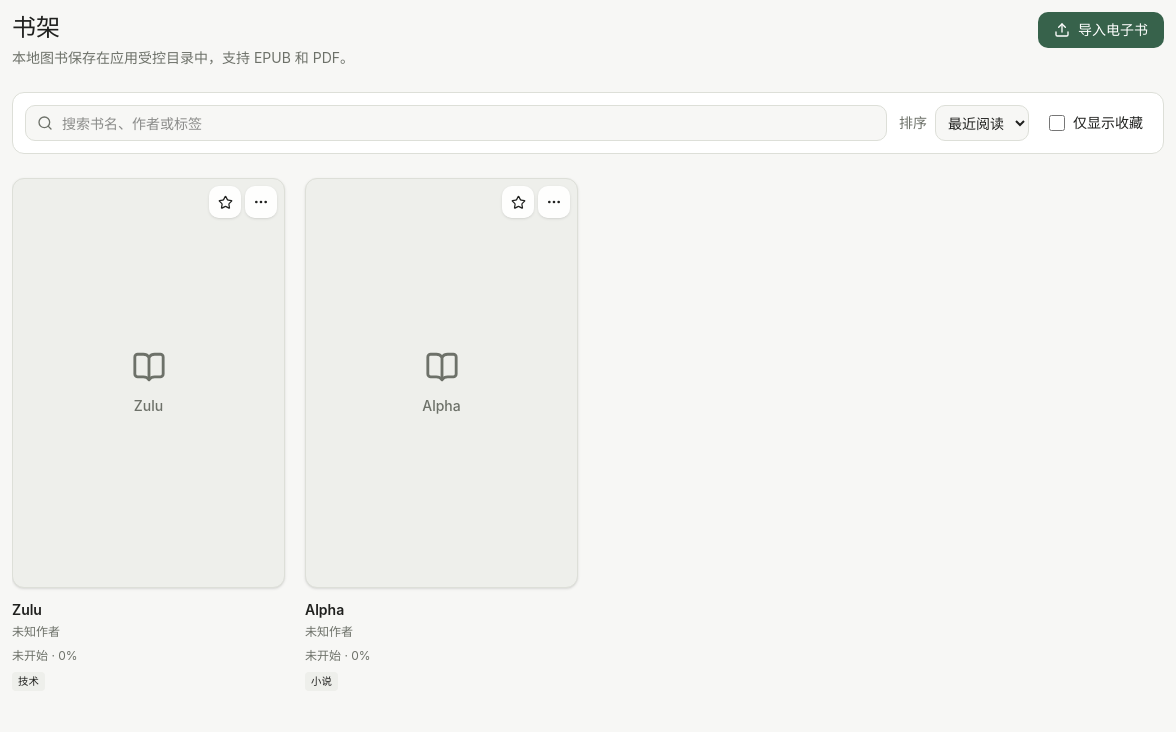
Scenario: LibraryPage › searches tags, sorts titles, and filters favorites
Expected: the button with aria-label "打开《Zulu》" is shown, [12,178,285,691]
Step 1. Select "标题" in the dropdown named "书架排序" → (982, 123), box [935,105,1029,141]
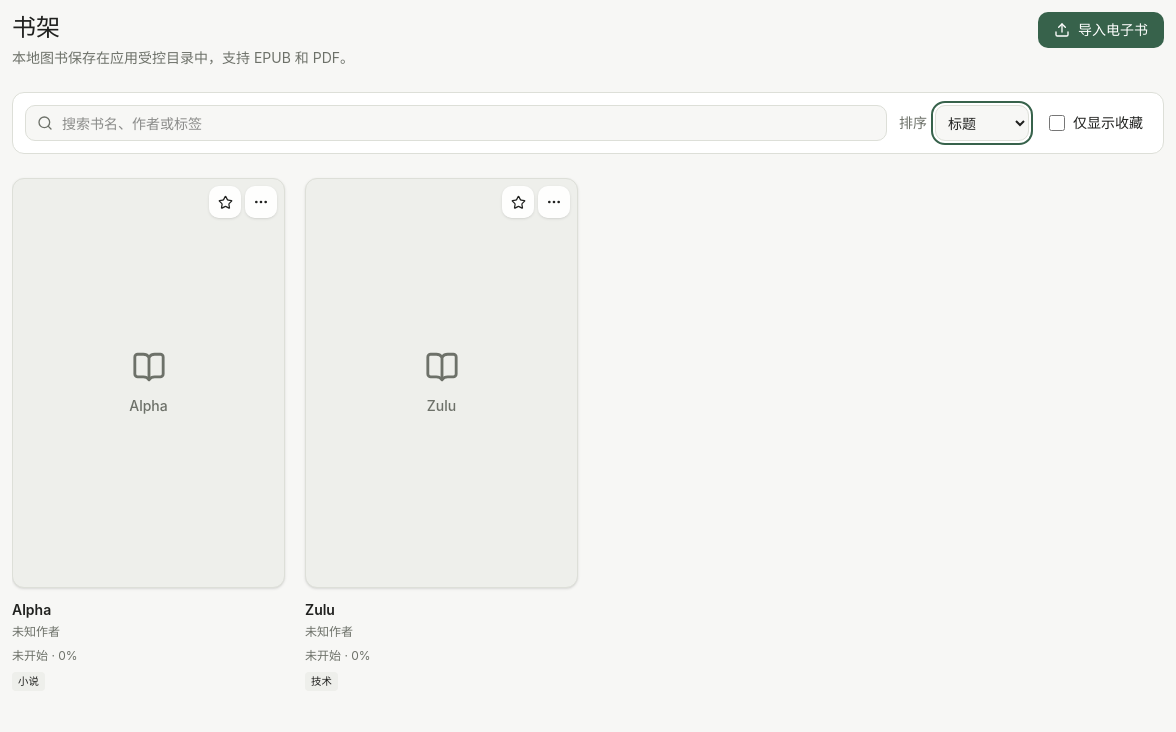
Step 2. Click the button named "收藏《Zulu》" → (518, 202), box [502,186,534,218]
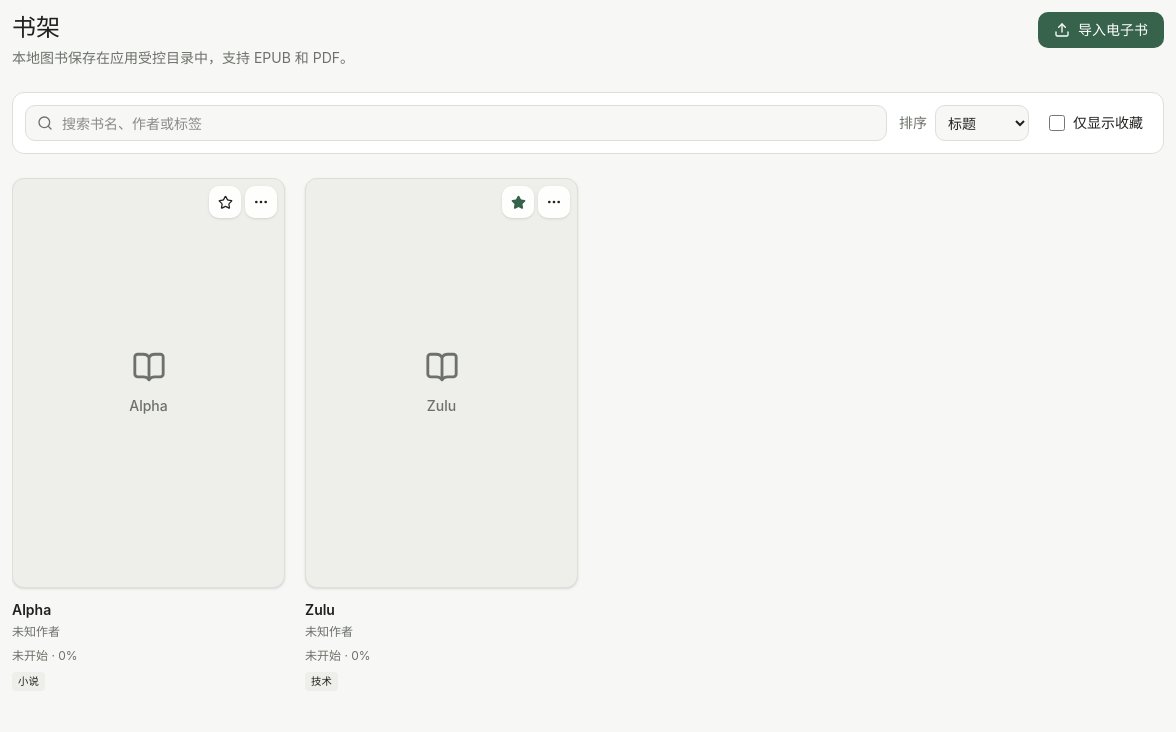
Expected: the button named "取消收藏《Zulu》" is pressed, [502,186,534,218]
Step 3. Click the checkbox labelled "仅显示收藏" → (1057, 123), box [1049,115,1065,131]
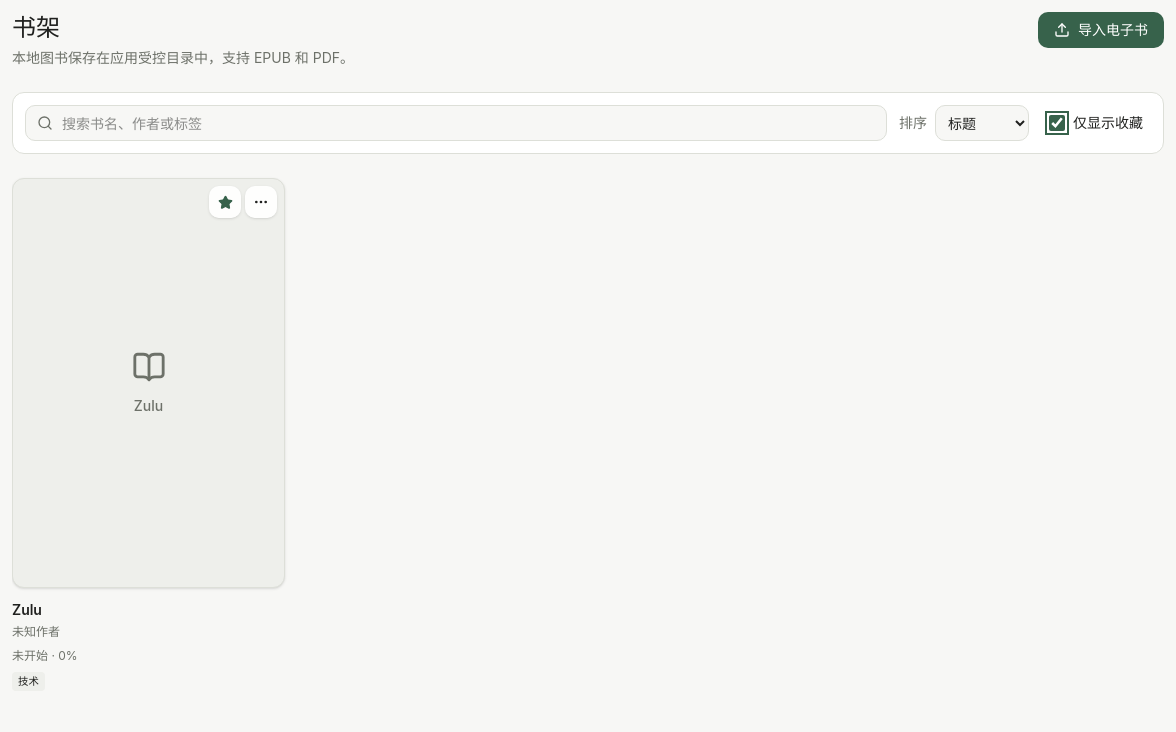
Expected: the button with aria-label "打开《Zulu》" is shown, [12,178,285,691]
Expected: the button "打开《Alpha》" is gone
Step 4. Click the checkbox labelled "仅显示收藏" → (1057, 123), box [1049,115,1065,131]
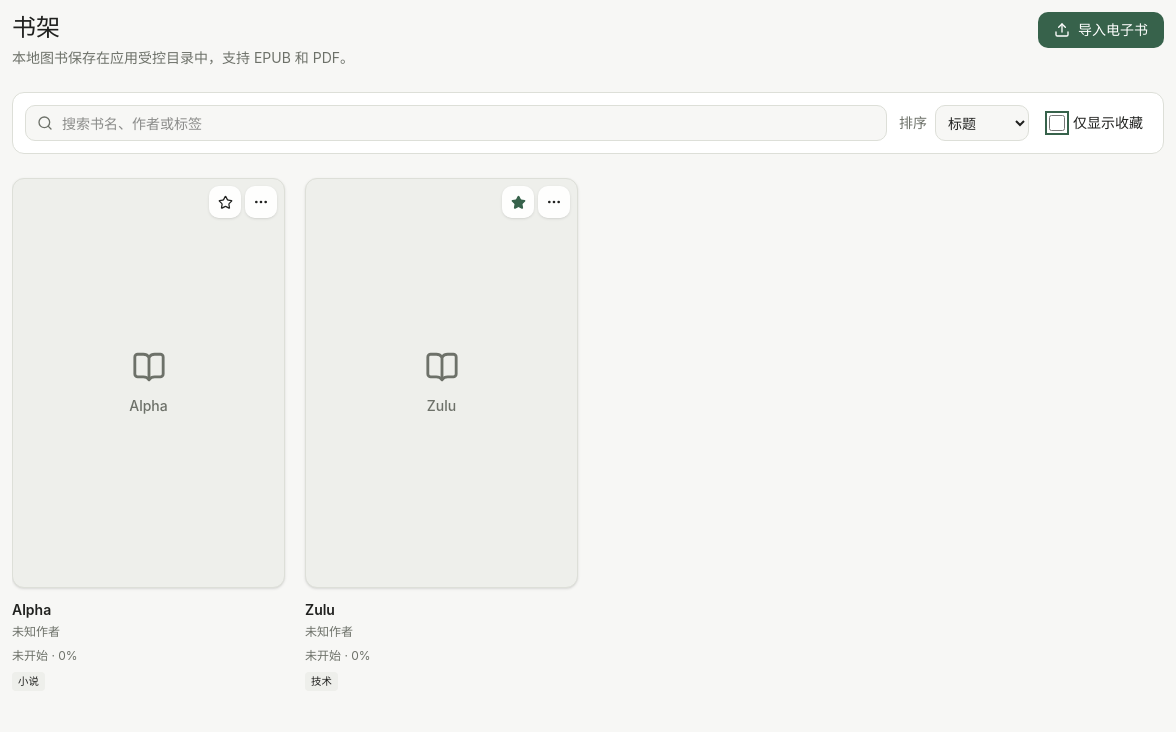
Step 5. Type "小说" into the search field named "搜索书架" → (456, 123), box [25,105,887,141]
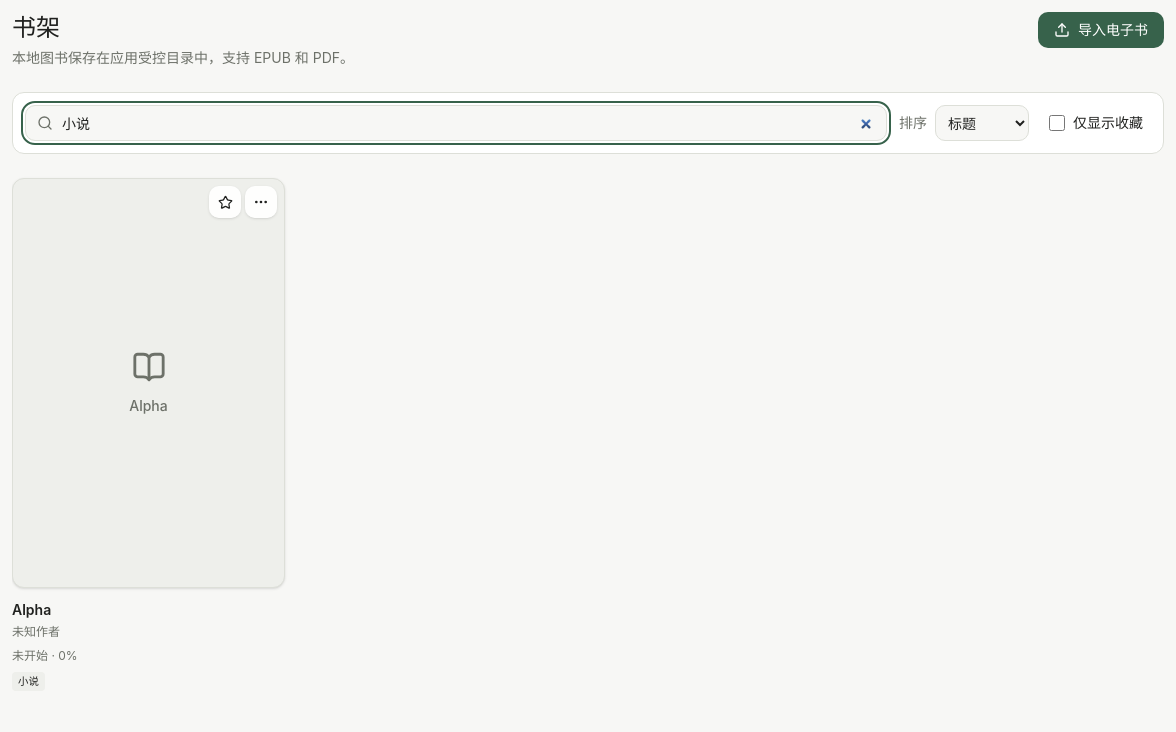
Expected: the button with aria-label "打开《Alpha》" is shown, [12,178,285,691]
Expected: the button "打开《Zulu》" is gone
